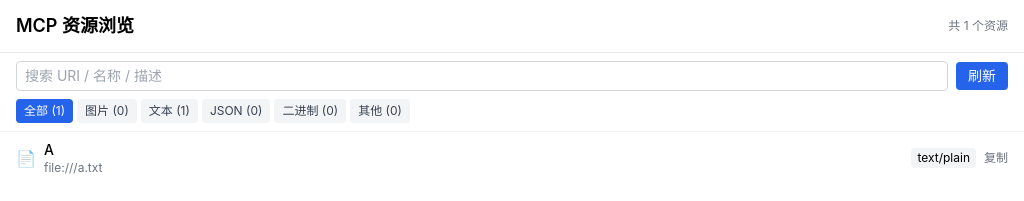
Test: McpResourcePanel › 空内容显示提示
This screenshot has width=1024, height=201.
Click the text "A" at (49, 150), box [44, 141, 54, 158]
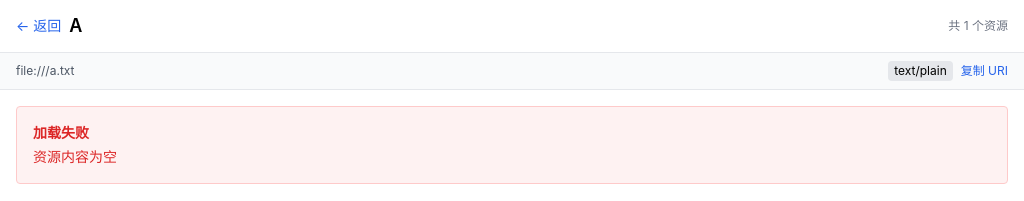
Check: the text "资源内容为空" is shown, box [33, 148, 117, 165]
